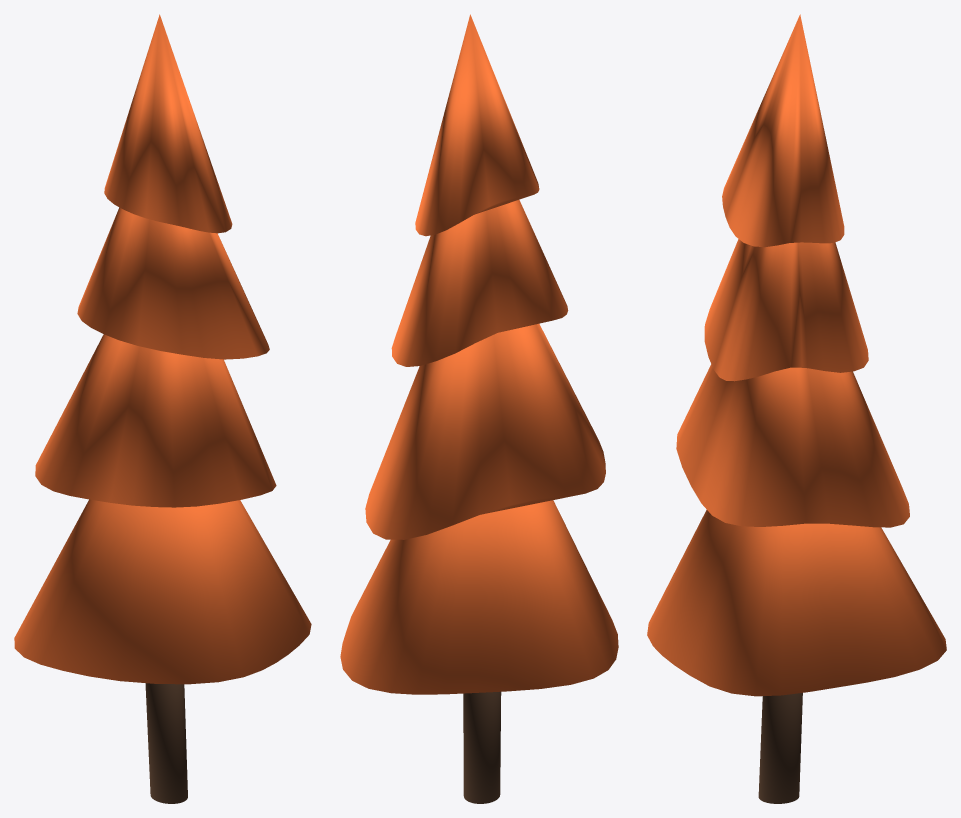
The model's file is Tree2.fbx.
The picture shows the model from 3 angles, left to right: view 1: azimuth 30°, elevation 25°; view 2: azimuth 150°, elevation 25°; view 3: azimuth 270°, elevation 25°; orthographic projection.
Visible parts, largest first — view 1: Cylinder.002; view 2: Cylinder.002; view 3: Cylinder.002.
Boxes of the visible parts, box(x1,y1,x2,y2) form: Cylinder.002: box(14, 14, 311, 803); Cylinder.002: box(340, 14, 618, 803); Cylinder.002: box(647, 14, 946, 803).
Size of the model in its own units: 165 by 472 by 164.
